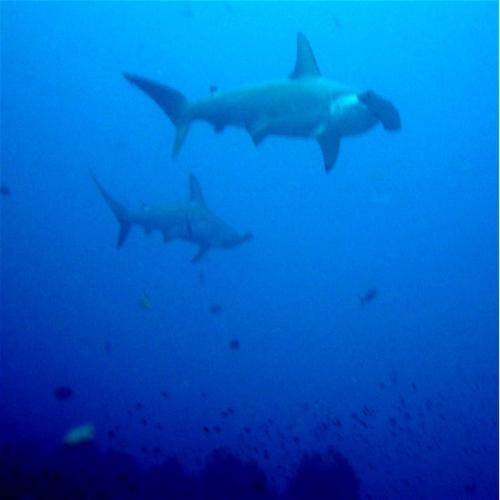shark-endangered: (121, 32, 402, 174), (87, 164, 254, 265)
